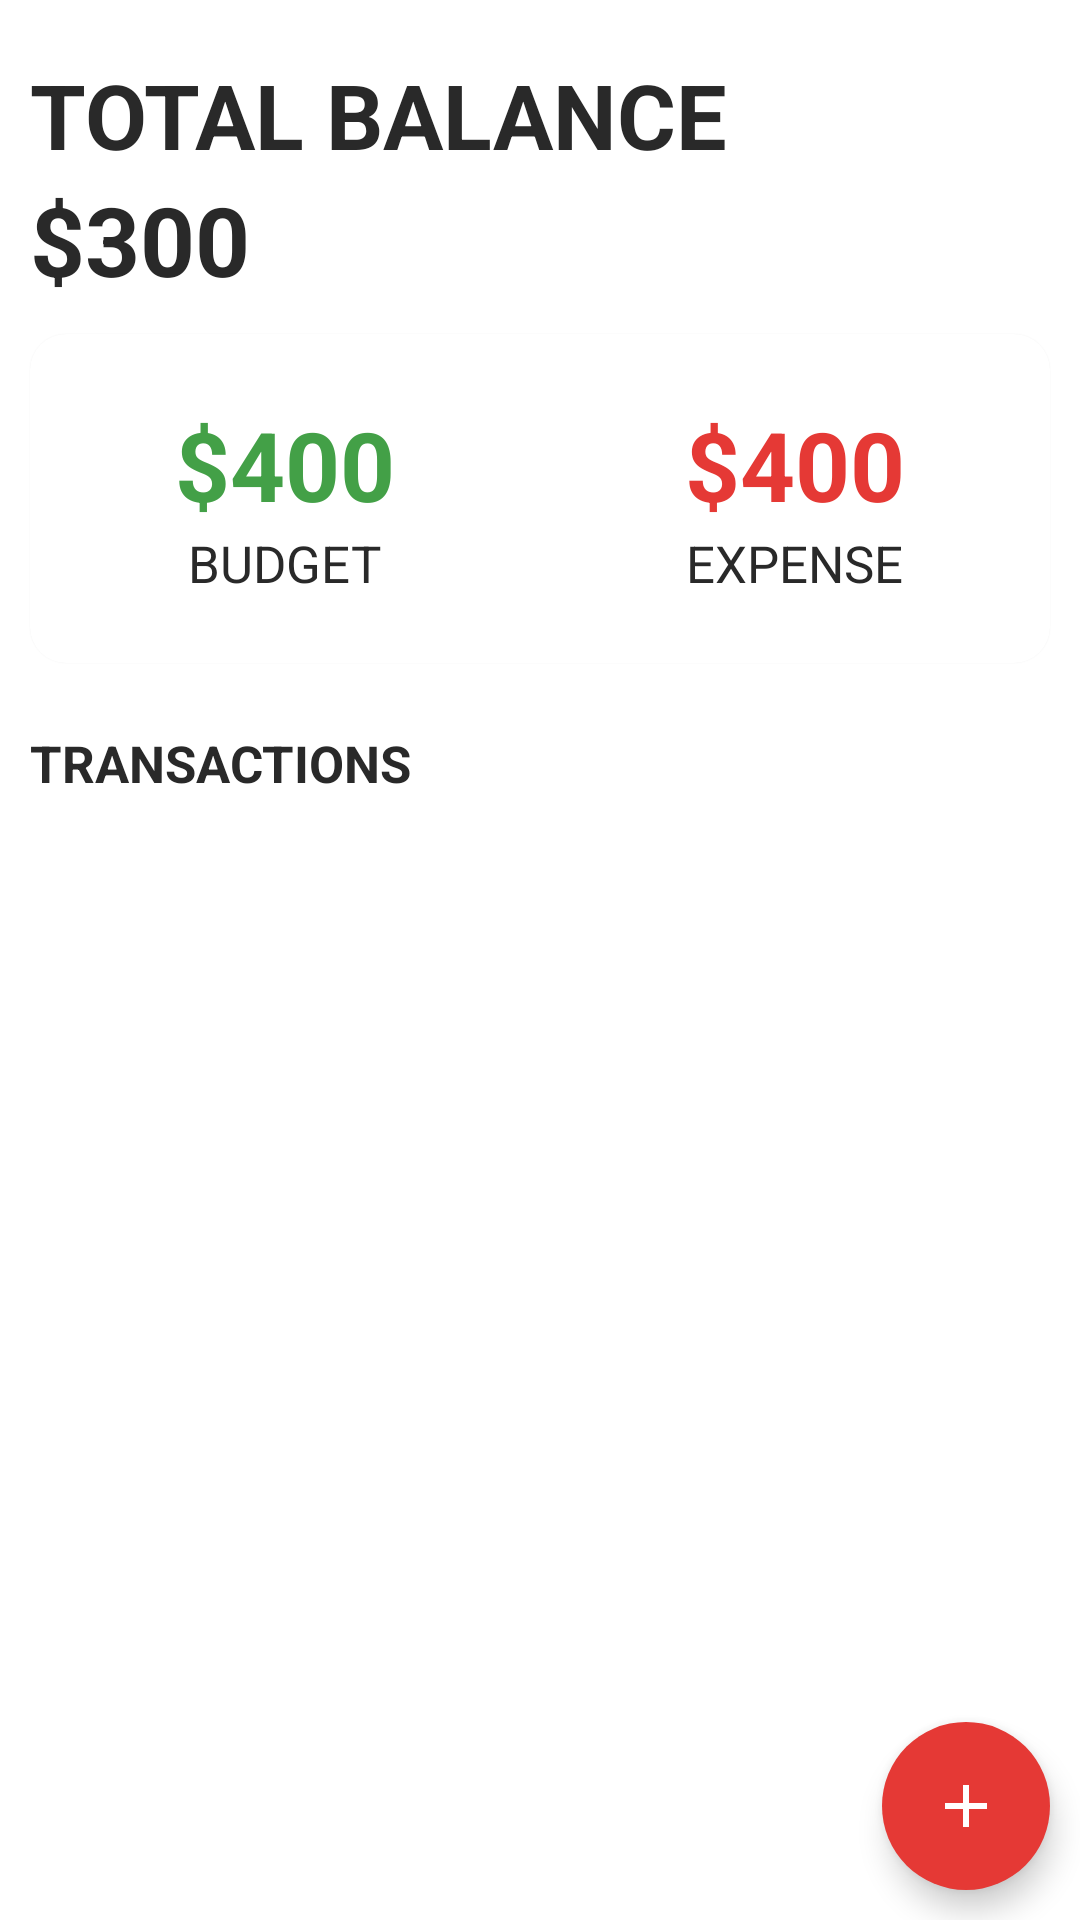

Named icons in this screenshot (1080×1920) and their centers, point (x, y):
add: point (966, 1806)
